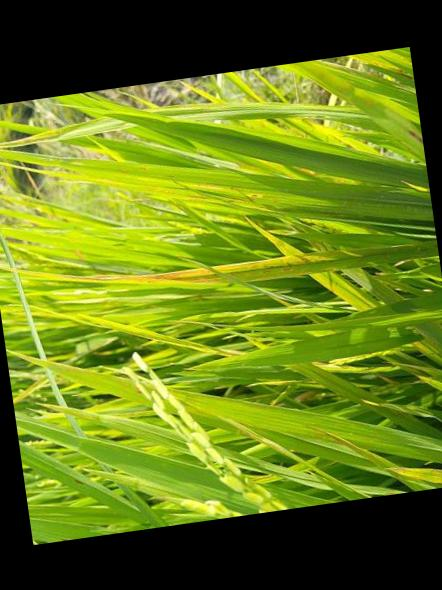Leaf Streak: (20, 244, 431, 287), (400, 117, 425, 161)
